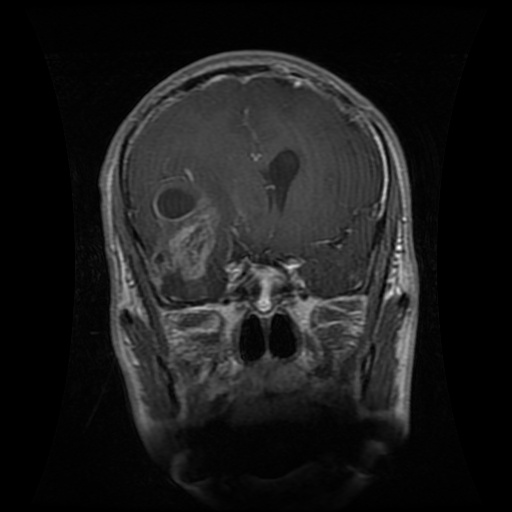glioma: (147, 174, 220, 294)
